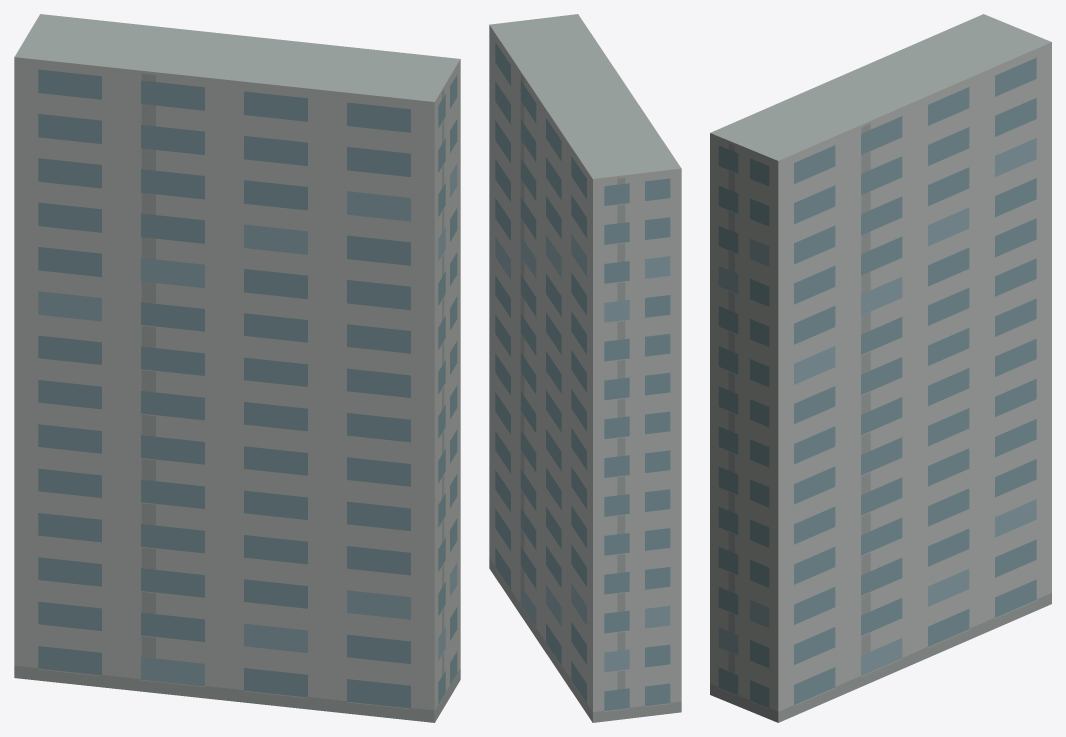
Rendered from residential-3a5c2e30-b1cc-49fc-ba9d-a091811da2ca.glb.
The picture shows the model from 3 angles, left to right: view 1: azimuth 30°, elevation 25°; view 2: azimuth 150°, elevation 25°; view 3: azimuth 270°, elevation 25°; orthographic projection. The views are drawn at different scales.
Parts seen in each view (by area): view 1: residential-3a5c2e30-b1cc-49fc-ba9d-a091811da2ca.tmp; view 2: residential-3a5c2e30-b1cc-49fc-ba9d-a091811da2ca.tmp; view 3: residential-3a5c2e30-b1cc-49fc-ba9d-a091811da2ca.tmp.
Boxes of the visible parts, box(x1,y1,x2,y2) form: residential-3a5c2e30-b1cc-49fc-ba9d-a091811da2ca.tmp: box(14, 14, 460, 722); residential-3a5c2e30-b1cc-49fc-ba9d-a091811da2ca.tmp: box(489, 14, 681, 722); residential-3a5c2e30-b1cc-49fc-ba9d-a091811da2ca.tmp: box(710, 14, 1051, 722).
Bounding box in the file's own units: 30.86 × 55 × 30.33.
